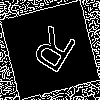R: (25, 25, 79, 82)
